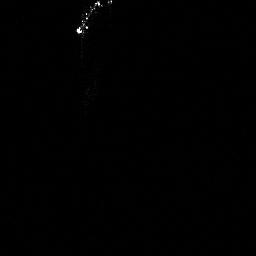ship: (76, 1, 119, 35)
